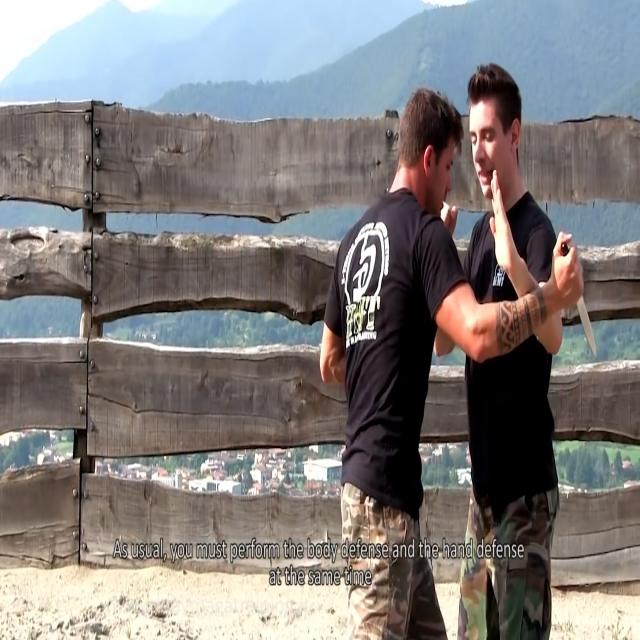knife: (576, 297, 600, 363)
